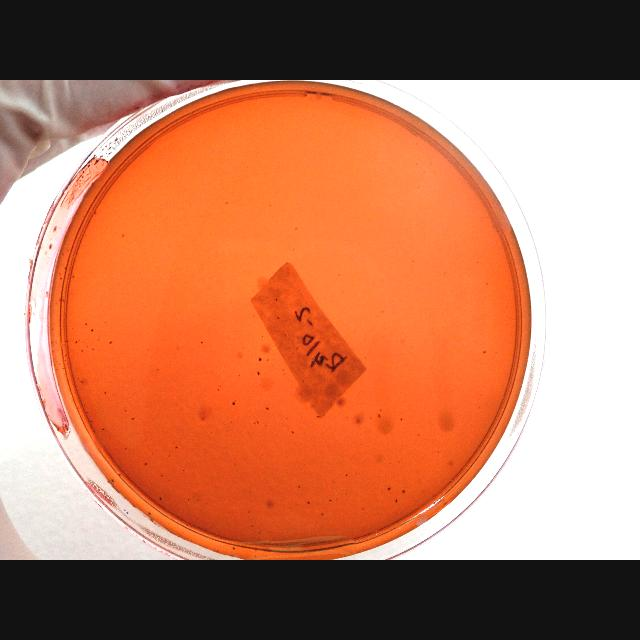colony: (130, 416, 136, 422), (111, 478, 115, 484), (306, 500, 310, 506), (232, 400, 236, 406), (258, 357, 262, 361), (256, 371, 260, 375), (90, 329, 94, 333), (74, 340, 78, 344), (109, 340, 113, 344), (124, 409, 128, 413), (144, 462, 148, 466), (148, 512, 152, 516), (387, 487, 391, 491), (394, 499, 398, 503), (482, 350, 486, 354), (274, 298, 278, 302), (265, 406, 269, 410), (316, 414, 320, 418), (256, 420, 260, 424), (64, 358, 68, 362), (200, 341, 203, 345), (102, 427, 105, 431), (175, 446, 178, 450), (160, 496, 162, 502), (321, 512, 324, 516), (80, 381, 84, 384), (59, 276, 62, 280), (232, 546, 235, 550), (122, 235, 125, 238), (188, 497, 190, 501), (330, 498, 332, 502), (403, 490, 405, 494), (278, 316, 280, 320), (292, 430, 294, 434), (254, 421, 256, 425), (378, 414, 380, 418), (400, 417, 402, 421), (345, 473, 347, 477), (80, 350, 84, 352), (65, 266, 67, 270), (94, 211, 96, 215), (286, 416, 288, 419), (92, 348, 95, 350), (161, 475, 163, 477), (183, 469, 185, 471), (298, 486, 300, 488), (362, 508, 364, 510), (104, 392, 106, 394), (67, 340, 69, 342), (73, 276, 75, 278), (217, 389, 219, 391), (125, 448, 127, 450), (66, 340, 66, 342), (220, 385, 220, 387)
